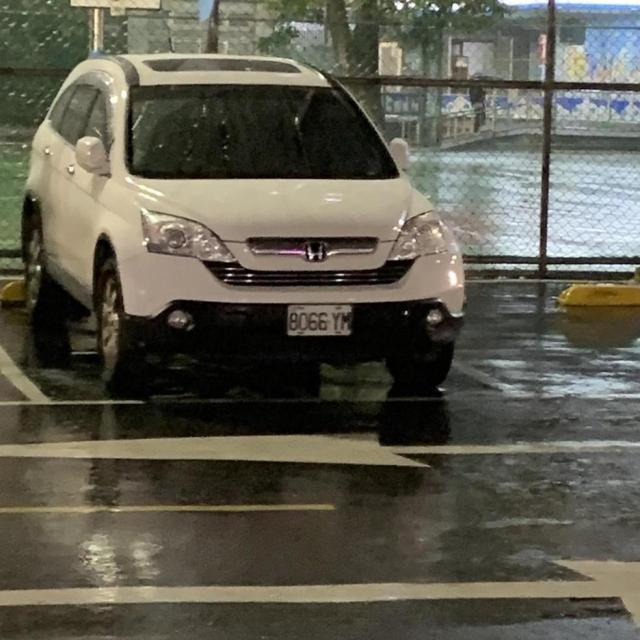W: (286, 300, 356, 340)
